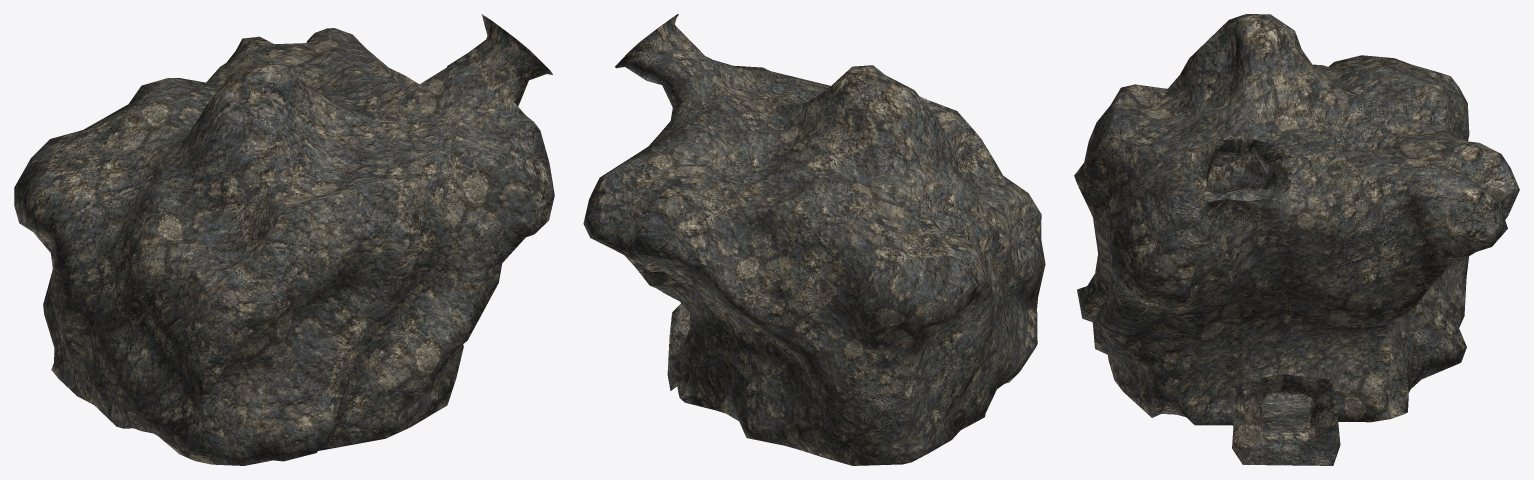
Rendered from Module24A.fbx.
3 renders of one model, left to right at view 1: azimuth 30°, elevation 25°; view 2: azimuth 150°, elevation 25°; view 3: azimuth 270°, elevation 25°, orthographic. The views are drawn at different scales.
Visible parts, largest first — view 1: polySurface209; view 2: polySurface209; view 3: polySurface209.
Part boxes in pixels (x1,y1,x2,y2): polySurface209: (14, 14, 554, 465); polySurface209: (583, 14, 1045, 465); polySurface209: (1074, 14, 1519, 465).
Size of the model in its own units: 43.57 by 33.77 by 37.48.
